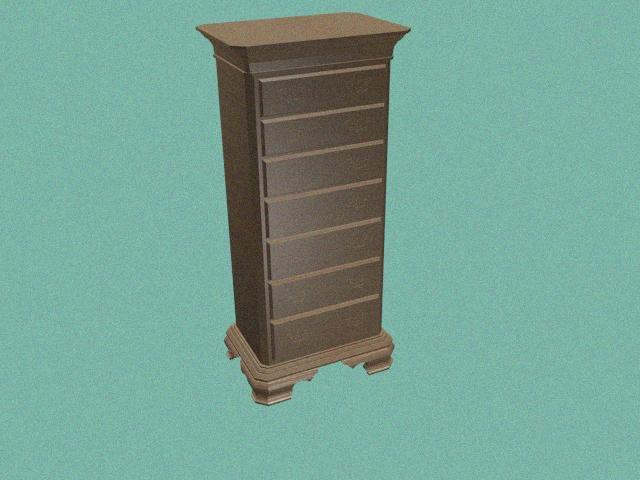cabinet_door: (260, 72, 385, 108), (268, 233, 381, 268), (266, 192, 382, 226), (264, 153, 383, 186), (262, 115, 384, 146), (270, 274, 380, 308), (272, 312, 379, 346)
